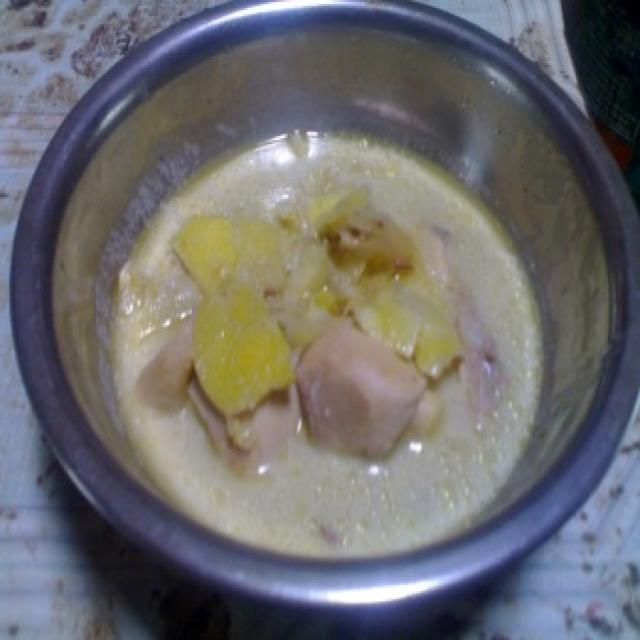汤锅炖物: (26, 10, 635, 610)
